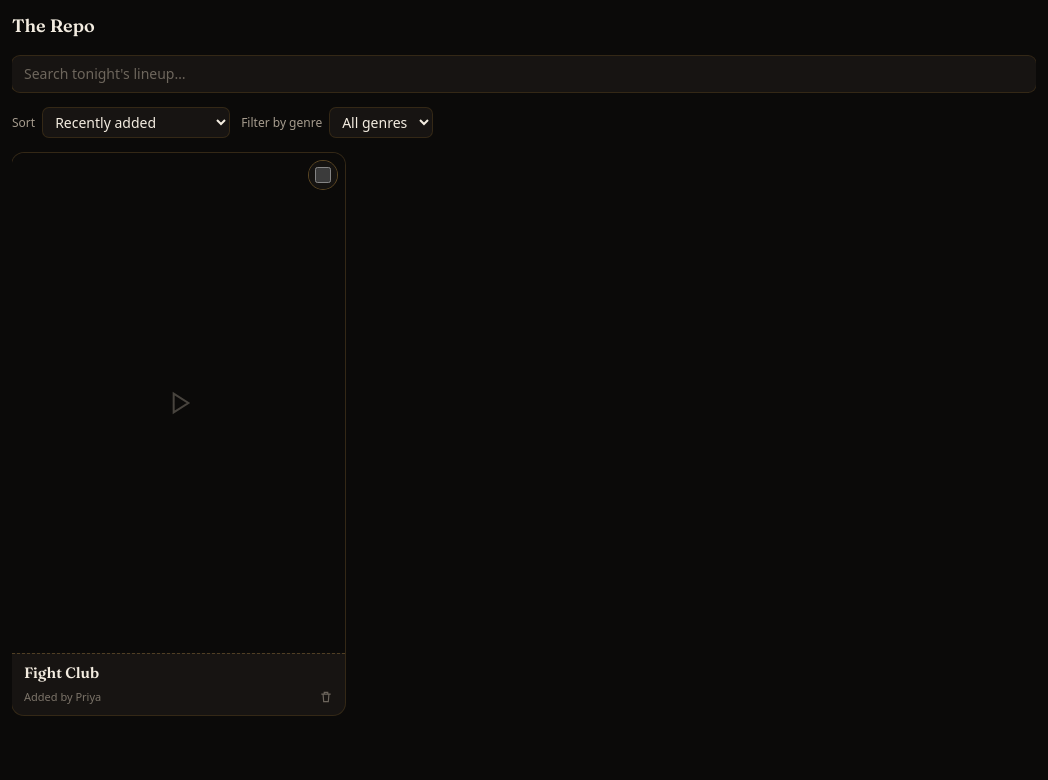
Test: RepoPanel › names the duplicate warning after whoever already added it (Module 6)
Type "fight club" into the field named "search for a movie" at coordinates (524, 74), box 12,56 -> 1036,92
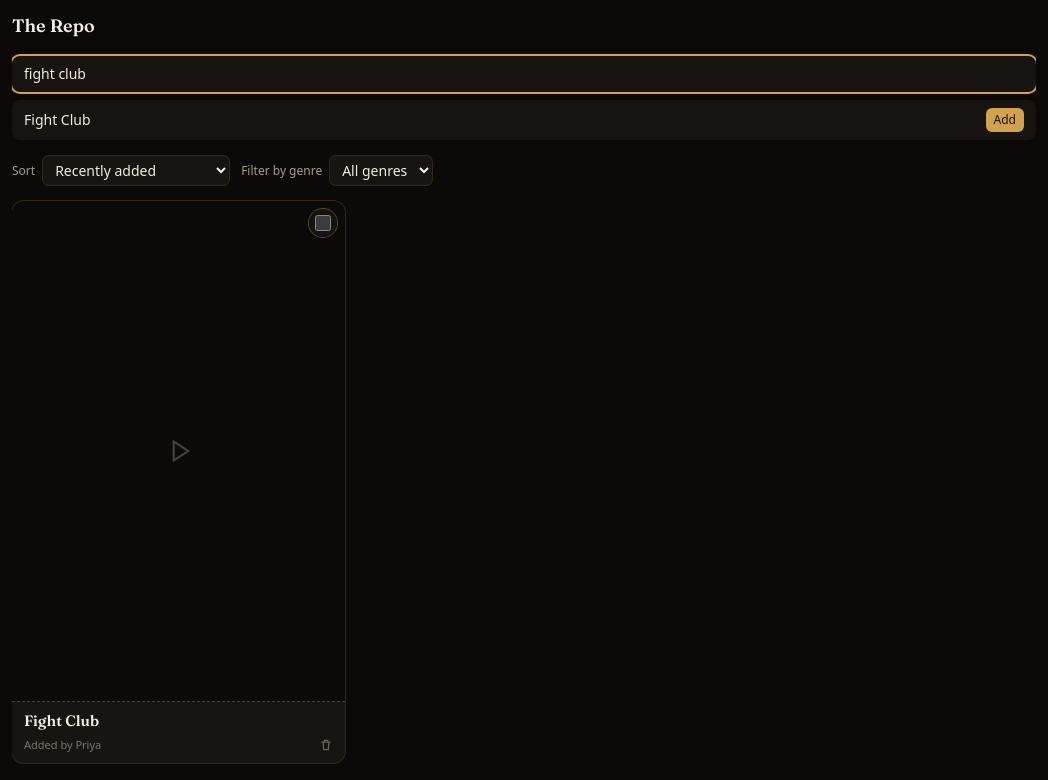
Click the button with aria-label "add fight club" at coordinates (1005, 120), box 986,108 -> 1024,132
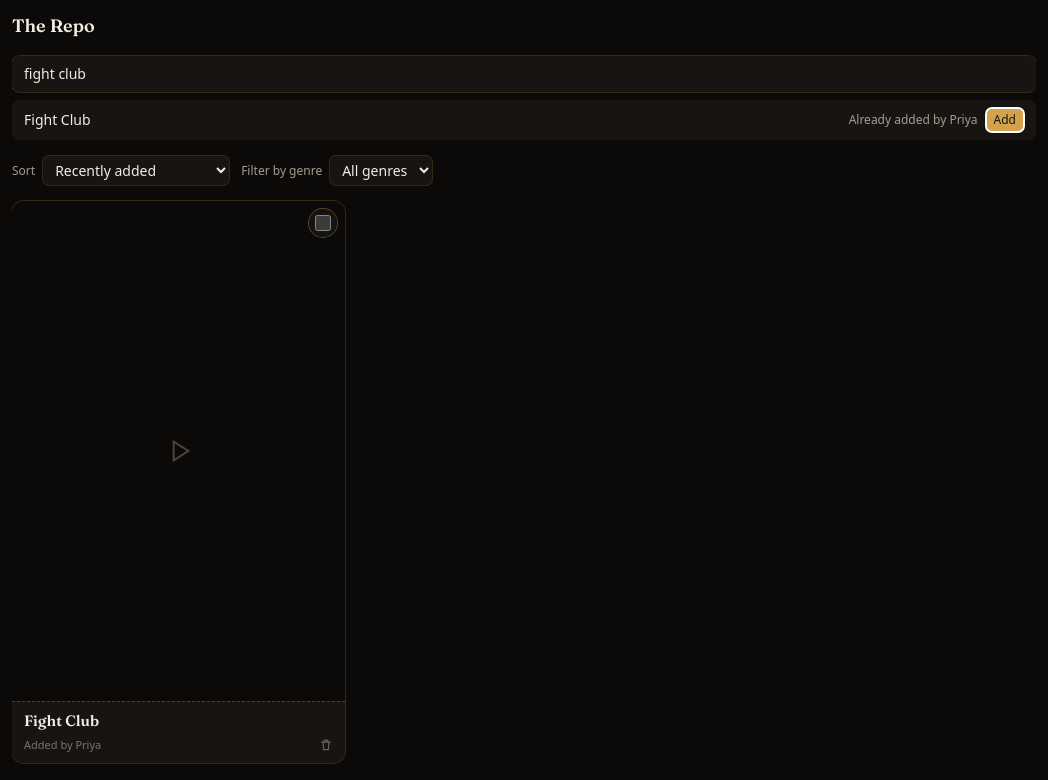
Result: the text "Already added by Priya" is shown at 849,112 -> 978,128
